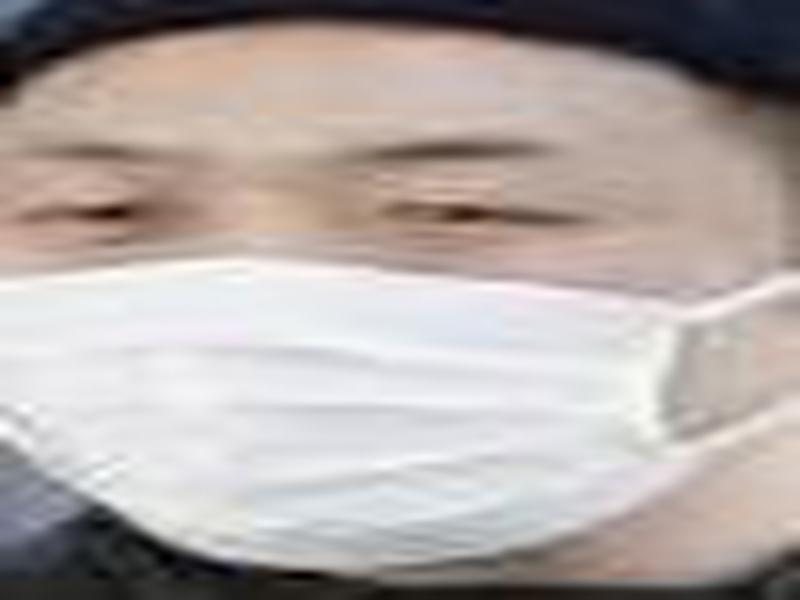with_mask: (1, 23, 796, 581)
